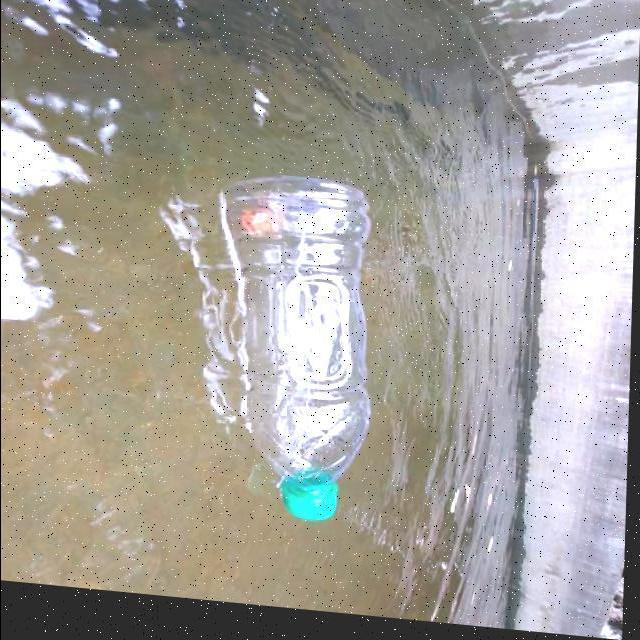Bottle: (208, 168, 379, 526)
